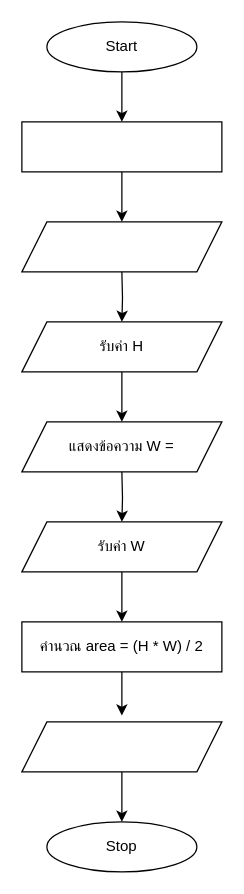
This 244x894 diagram has some shape labels left out. The centre of each missing label's shape, as x and y in pixels:
"ประกาศตัวแปร H , W, area" goes at pixel 121 146.
"แสดงข้อความ H =" goes at pixel 121 246.
"แสดงผลลัพธ์ Area = area" goes at pixel 121 746.
